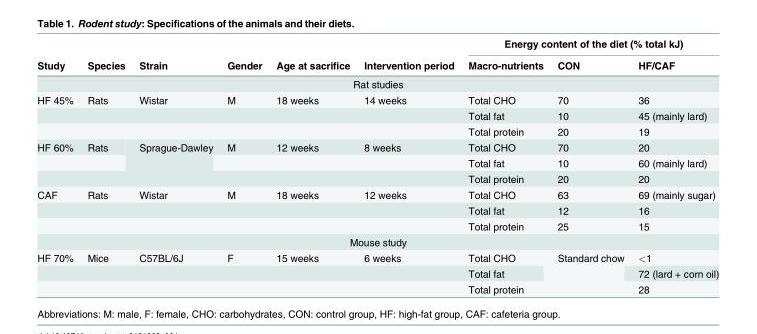table: (36, 37, 718, 294)
table column: (356, 37, 460, 294), (460, 37, 549, 294), (131, 37, 219, 294), (268, 37, 356, 294), (630, 37, 718, 294), (549, 37, 630, 294), (79, 37, 131, 294), (219, 37, 268, 294), (36, 37, 79, 294)
table column header: (36, 37, 718, 74)
table projected row header: (36, 74, 718, 91), (36, 233, 718, 249)
table row: (36, 53, 718, 74), (36, 74, 718, 91), (36, 37, 718, 53), (36, 91, 718, 107), (36, 107, 718, 123), (36, 123, 718, 139), (36, 154, 718, 170), (36, 170, 718, 186), (36, 186, 718, 202), (36, 217, 718, 233), (36, 233, 718, 249), (36, 249, 718, 265), (36, 265, 718, 281), (36, 139, 718, 154), (36, 202, 718, 217), (36, 281, 718, 294)
table spanning cell: (460, 37, 718, 53), (356, 37, 460, 74), (549, 249, 630, 294), (131, 37, 219, 74), (268, 37, 356, 74), (131, 139, 219, 170), (36, 91, 79, 139), (36, 139, 79, 186), (36, 186, 79, 233), (36, 249, 79, 294), (79, 37, 131, 74), (219, 37, 268, 74), (36, 37, 79, 74)
